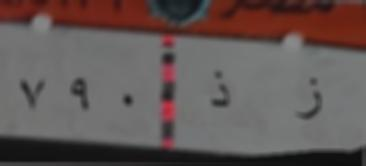0: (117, 84, 142, 119)
7: (16, 75, 48, 113)
9: (66, 74, 93, 118)
zaal: (206, 67, 234, 114)
zay: (292, 74, 328, 124)
